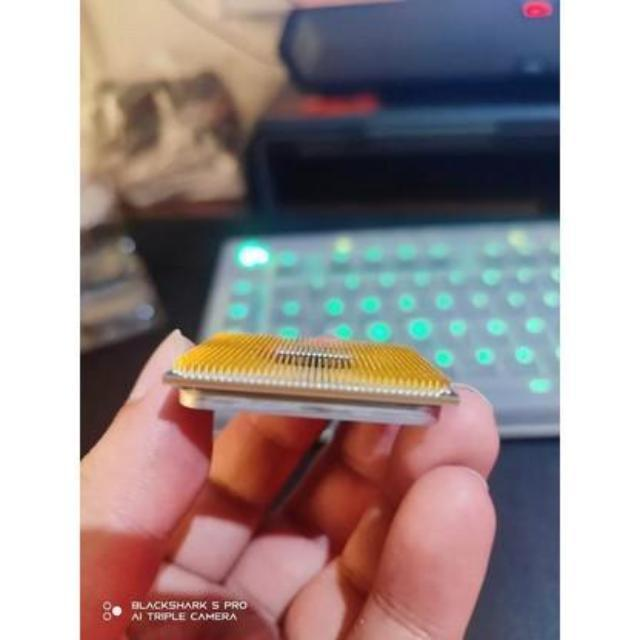CPU: (160, 322, 466, 434)
